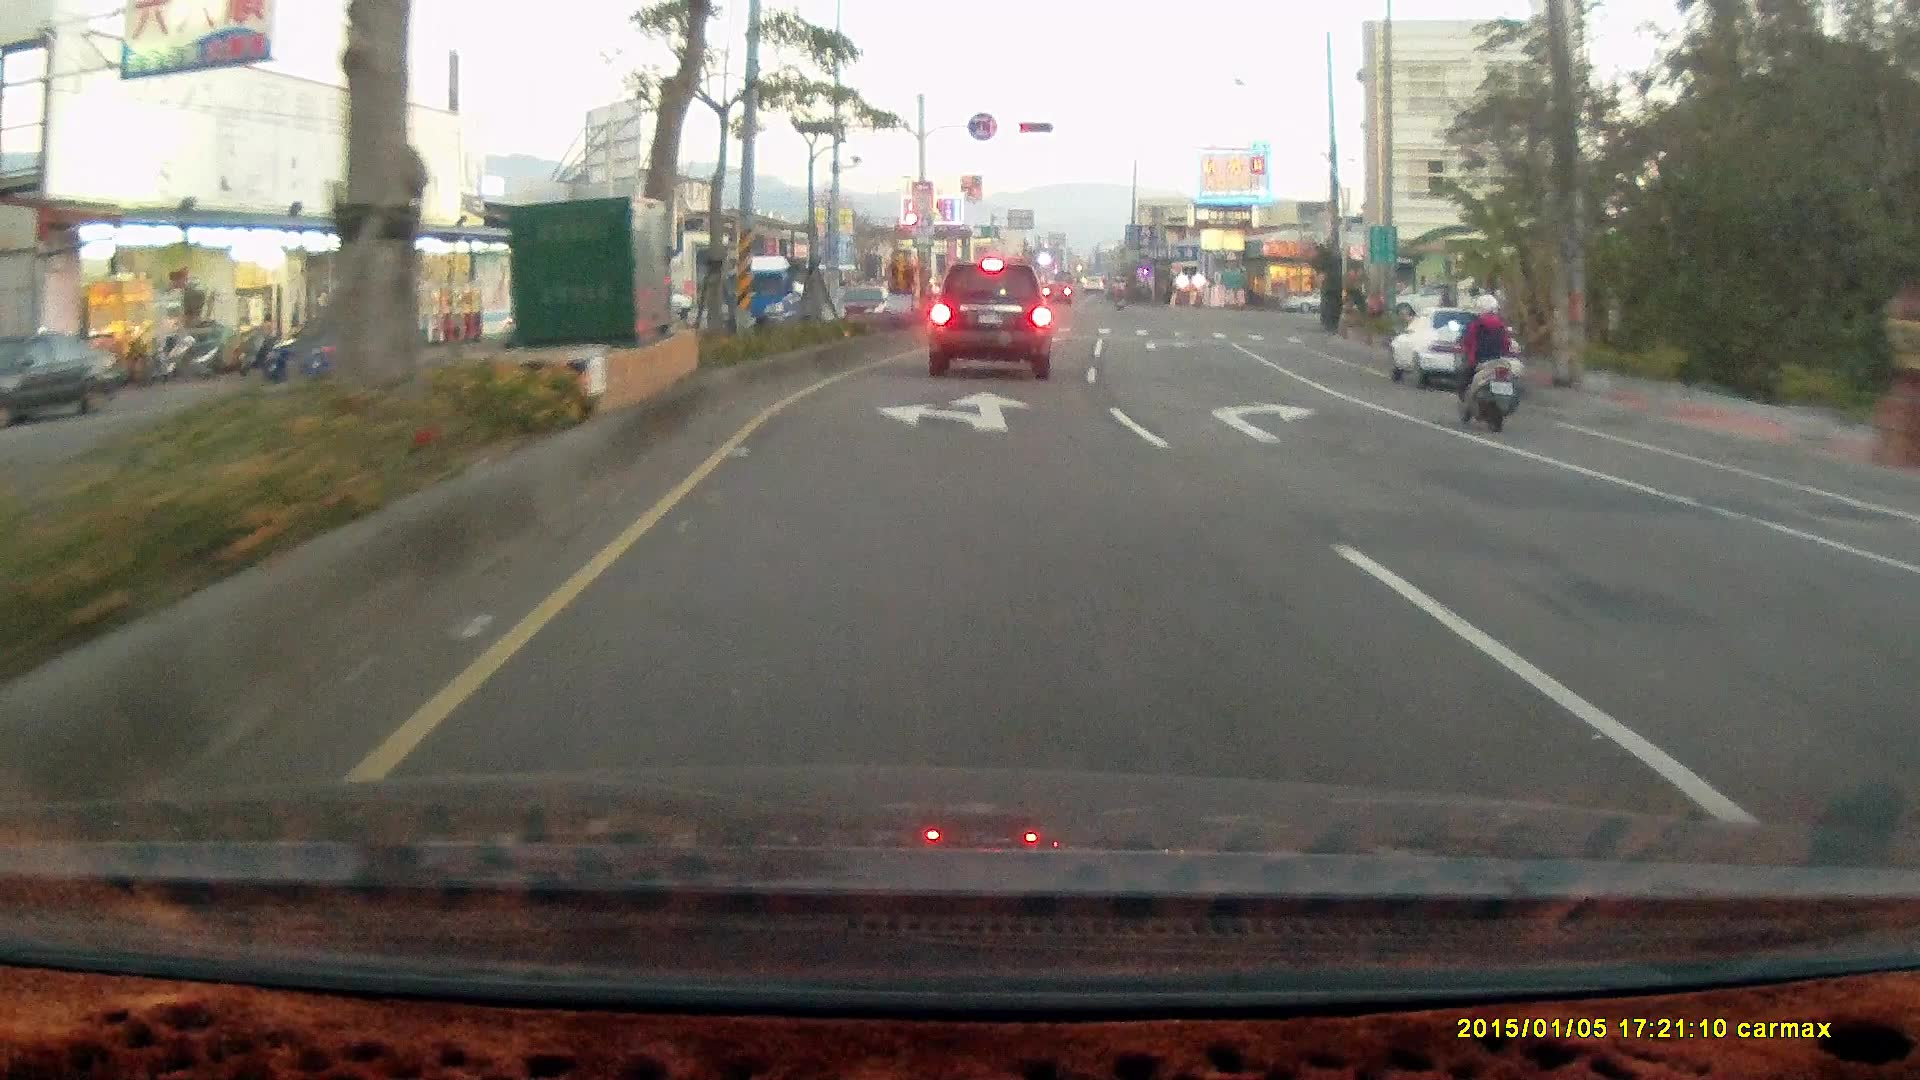rider: (1445, 292, 1522, 433)
vehicle: (926, 261, 1051, 380), (1385, 306, 1524, 392), (1392, 307, 1534, 389), (268, 308, 412, 383), (1896, 493, 1920, 836), (1883, 528, 1920, 690), (1387, 280, 1479, 320), (1280, 287, 1347, 316)
